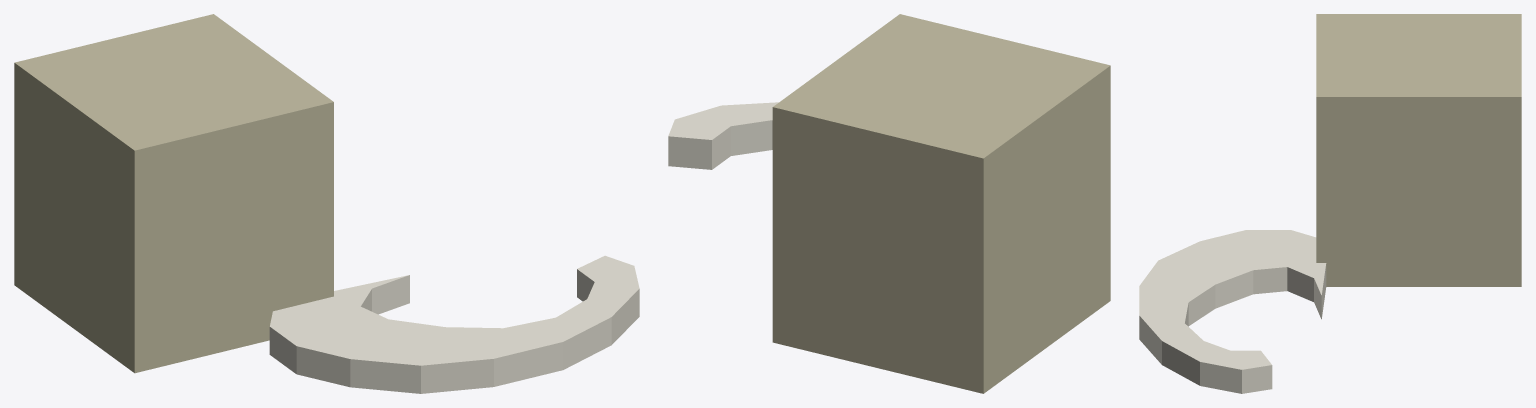
Rendered from section-0.obj.
3 views of the same model, side by side, from view 1: azimuth 30°, elevation 25°; view 2: azimuth 150°, elevation 25°; view 3: azimuth 270°, elevation 25° (orthographic). The views are drawn at different scales.
Bounding box in the file's own units: 1.09 × 0.5074 × 0.9258.
Materials: 1 (1 with a texture image).
